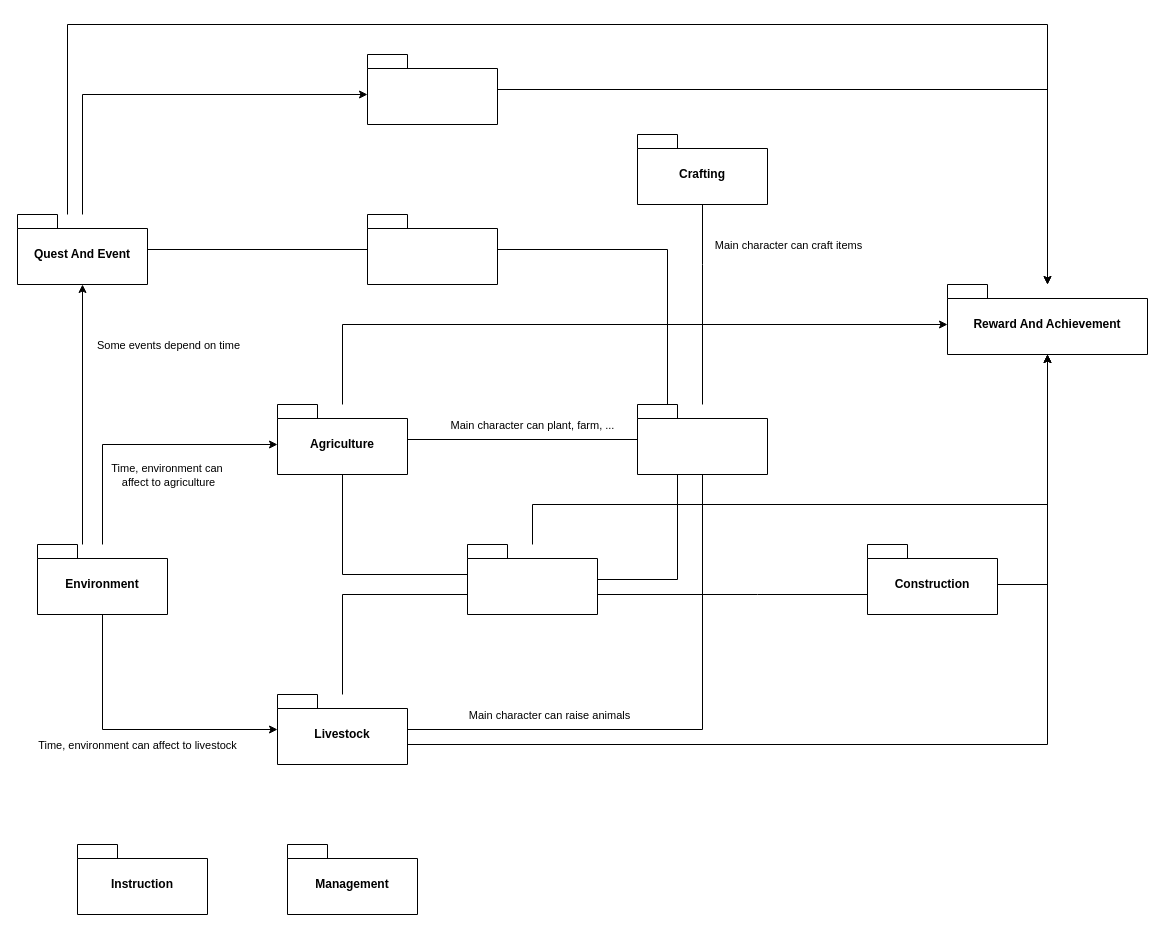
Some shapes in this 1165 by 932 pixel diagram are drawn without their labels. Each missing label, with the box of its shape:
Characters: (636, 404, 768, 474)
Community: (366, 214, 498, 284)
Economy: (466, 544, 598, 614)
NPC Behavior: (366, 54, 498, 124)
